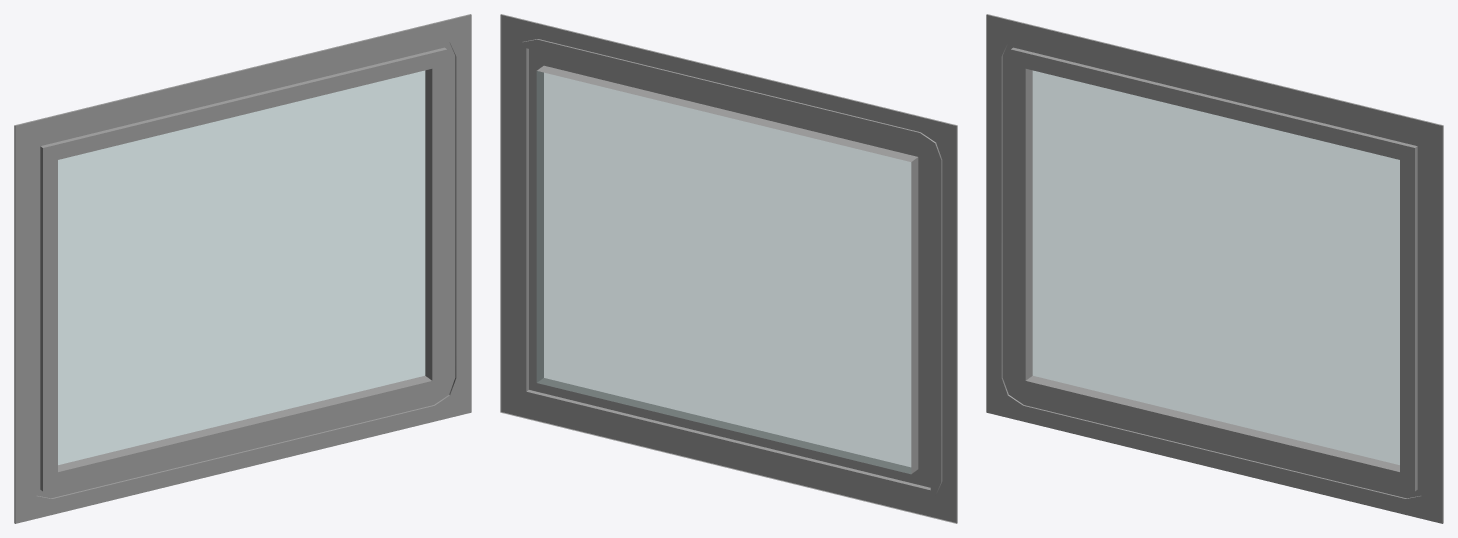
The model's file is Wall_C_Window2.fbx.
3 views of the same model, side by side, from view 1: azimuth 30°, elevation 25°; view 2: azimuth 150°, elevation 25°; view 3: azimuth 330°, elevation 25° (orthographic).
Visible parts, largest first — view 1: Wall_C_Window2; view 2: Wall_C_Window2; view 3: Wall_C_Window2.
Part boxes in pixels (x1=…): Wall_C_Window2: x1=14, y1=14, x2=471, y2=523; Wall_C_Window2: x1=500, y1=14, x2=957, y2=523; Wall_C_Window2: x1=986, y1=14, x2=1443, y2=523.
Bounding box in the file's own units: 3 × 0.0809 × 2.5.
